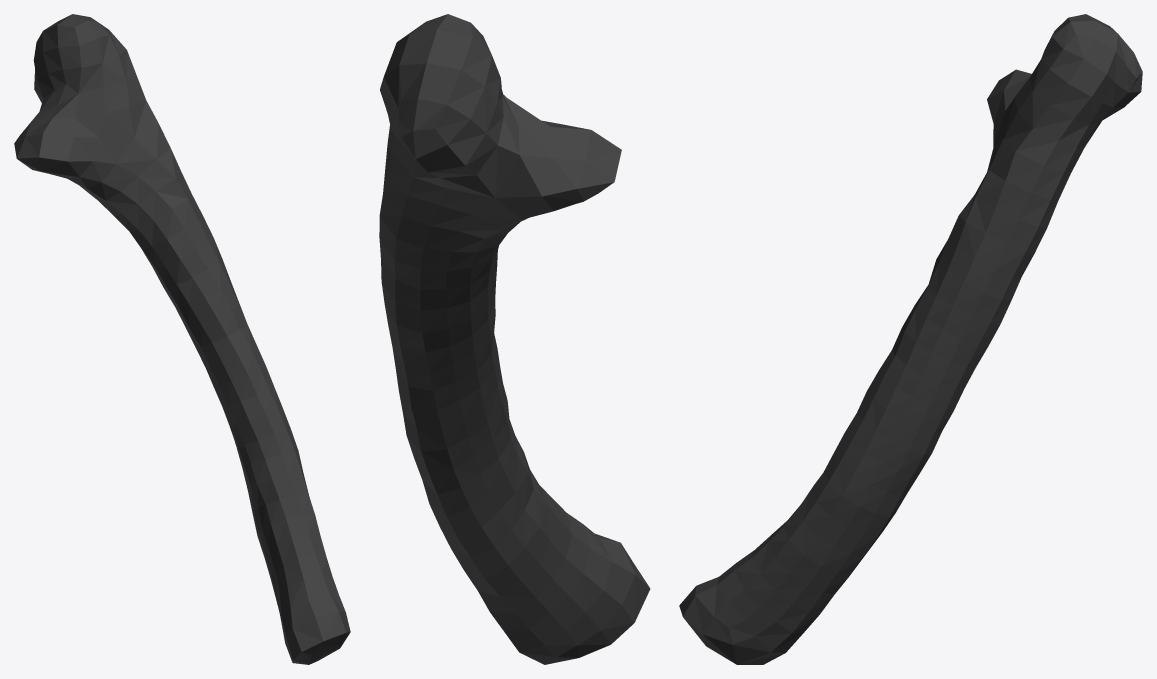
Rendered from Rib_1.glb.
3 renders of one model, left to right at view 1: azimuth 30°, elevation 25°; view 2: azimuth 150°, elevation 25°; view 3: azimuth 270°, elevation 25°, orthographic. The views are drawn at different scales.
Parts seen in each view (by area): view 1: Rib_1; view 2: Rib_1; view 3: Rib_1.
Boxes of the visible parts, x1,y1,x2,y2 form: Rib_1: (14, 14, 350, 664); Rib_1: (379, 14, 650, 664); Rib_1: (679, 14, 1142, 664).
Bounding box in the file's own units: 1.41 × 3.74 × 2.61.
Materials: 1 (1 with a texture image).
